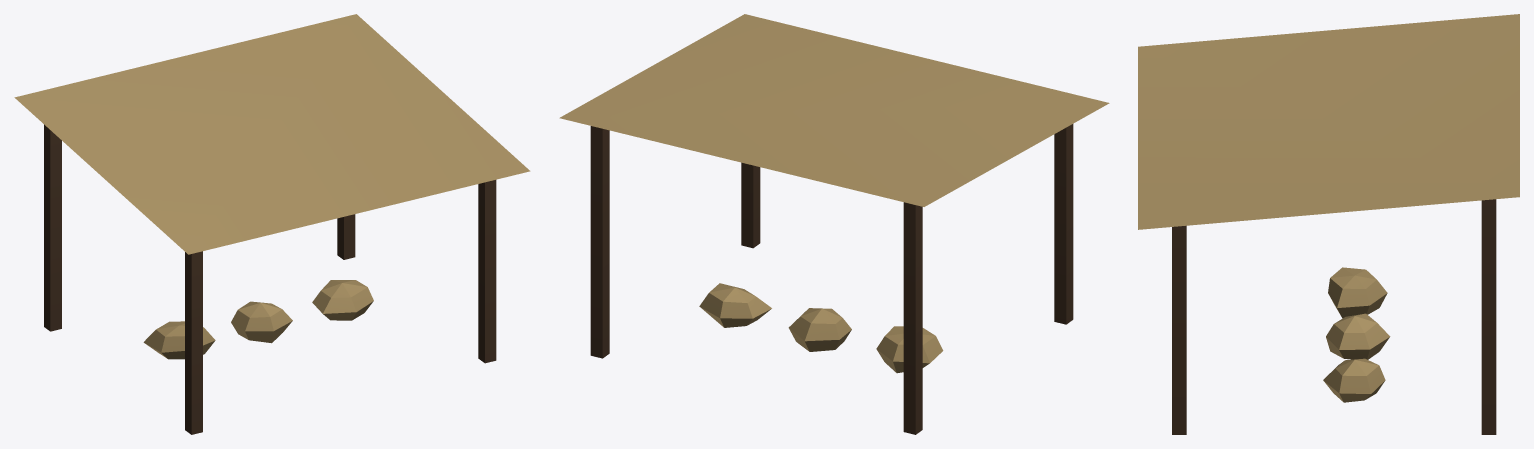
Rendered from caral_fair_tent_lod0.glb.
3 renders of one model, left to right at view 1: azimuth 30°, elevation 25°; view 2: azimuth 150°, elevation 25°; view 3: azimuth 270°, elevation 25°, orthographic. The views are drawn at different scales.
Parts seen in each view (by area): view 1: GEO-Arch_fair_tent_LOD0; view 2: GEO-Arch_fair_tent_LOD0; view 3: GEO-Arch_fair_tent_LOD0.
Boxes of the visible parts, box(x1,y1,x2,y2) form: GEO-Arch_fair_tent_LOD0: box(14, 14, 530, 434); GEO-Arch_fair_tent_LOD0: box(559, 14, 1109, 434); GEO-Arch_fair_tent_LOD0: box(1138, 14, 1519, 434).
Size of the model in its own units: 4.2 by 2.67 by 3.7.
